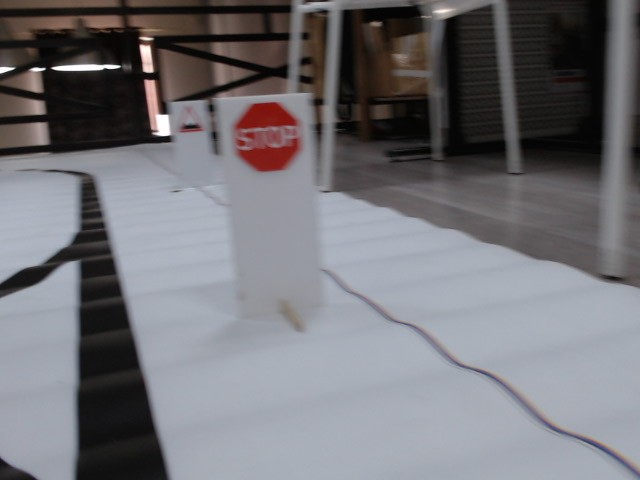Nerov: (175, 106, 203, 133)
Stop: (229, 102, 303, 171)
